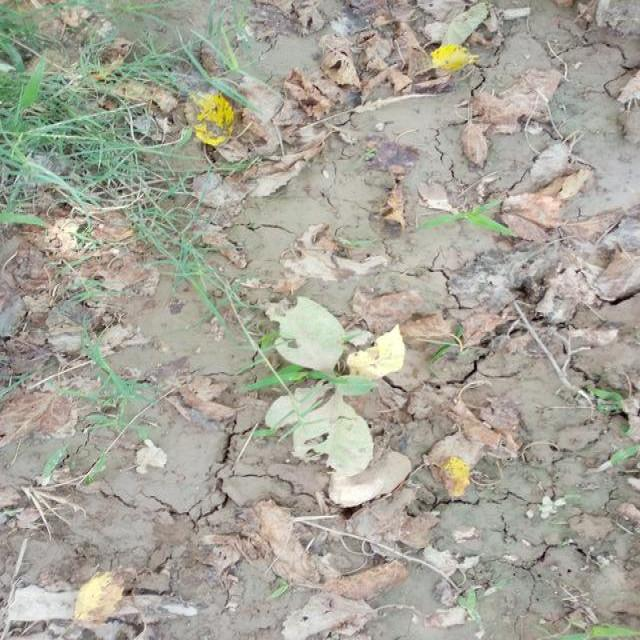crop: (266, 304, 402, 481)
